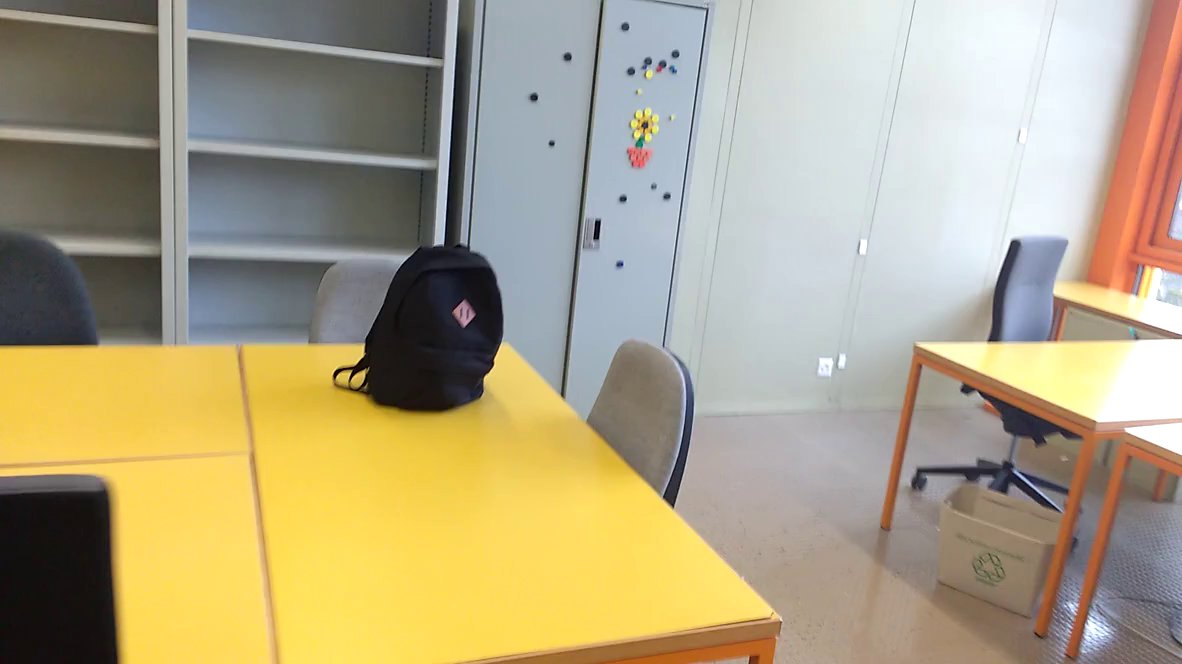bag: (331, 236, 510, 425)
box: (930, 479, 1085, 621)
chair: (937, 229, 1113, 555), (570, 327, 717, 536), (273, 248, 435, 373)
